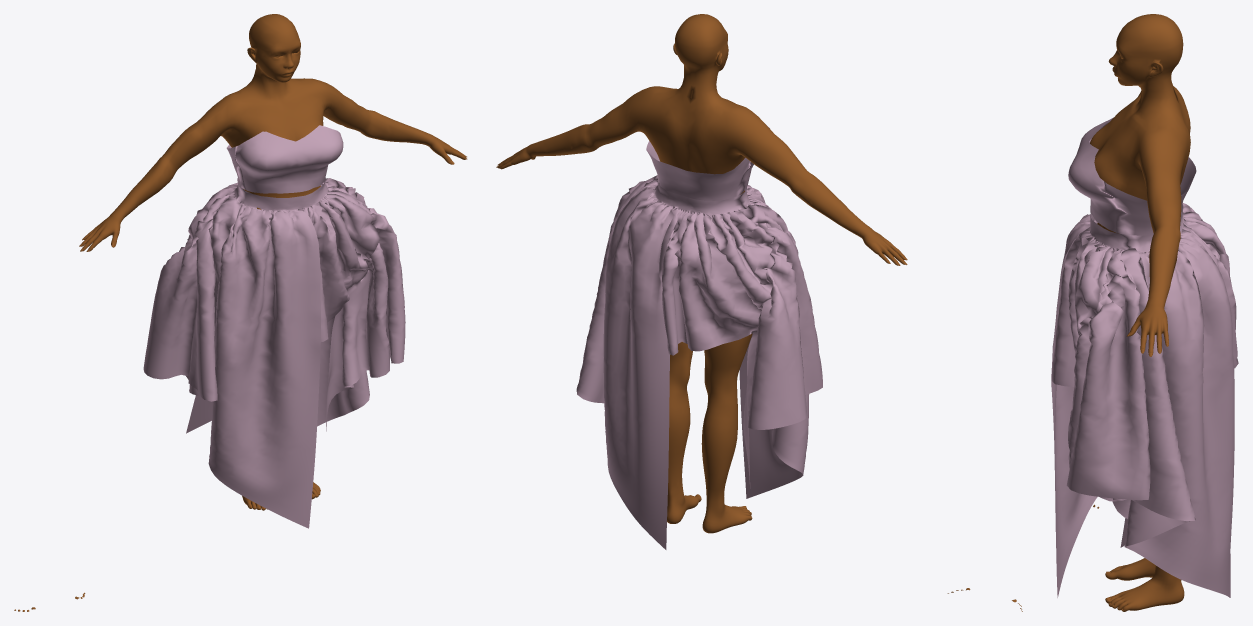
Rendered from dress8.glb.
3 views of the same model, side by side, from view 1: azimuth 30°, elevation 25°; view 2: azimuth 150°, elevation 25°; view 3: azimuth 270°, elevation 25° (orthographic). The views are drawn at different scales.
Visible parts, largest first — view 1: Project 1, Body.003; view 2: Project 1, Body.003; view 3: Project 1, Body.003.
Part boxes in pixels (box(x1,y1,x2,y2)): Project 1: box(143, 125, 405, 528); Body.003: box(81, 14, 466, 510); Project 1: box(576, 126, 822, 549); Body.003: box(497, 14, 905, 533); Project 1: box(1051, 117, 1238, 597); Body.003: box(1090, 14, 1190, 611).
Size of the model in its own units: 1.93 by 1.98 by 0.5458.
